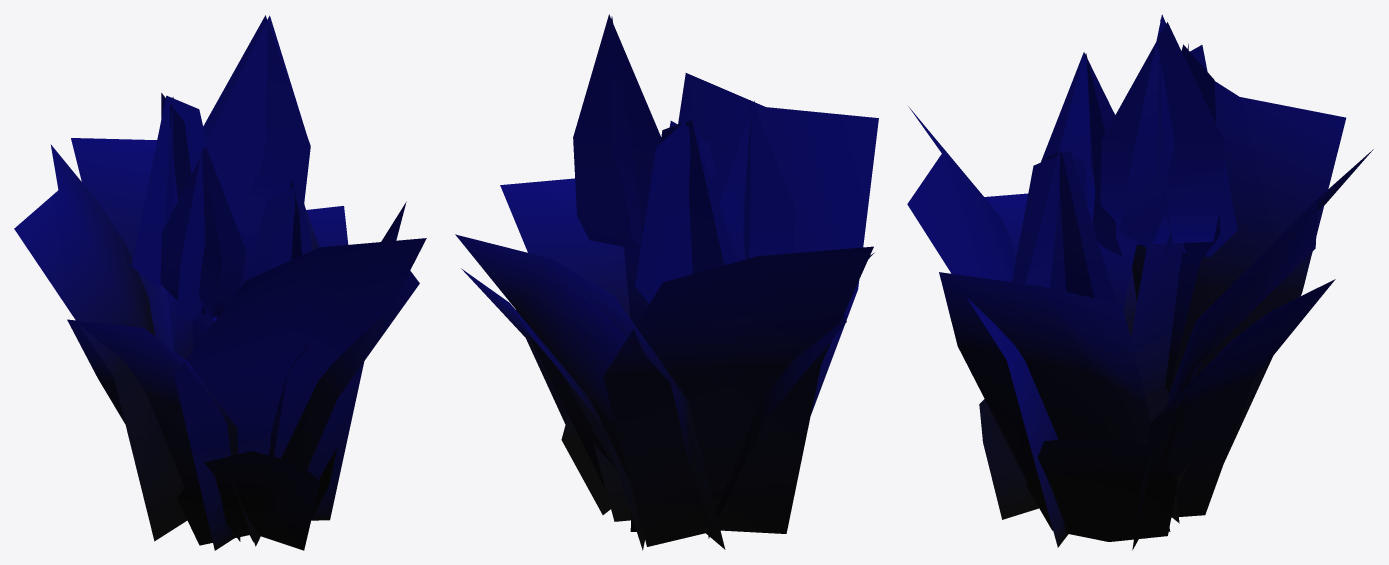
The model's file is SM_Foliage_ReedC_04.fbx.
The picture shows the model from 3 angles, left to right: view 1: azimuth 30°, elevation 25°; view 2: azimuth 150°, elevation 25°; view 3: azimuth 270°, elevation 25°; orthographic projection. The views are drawn at different scales.
Parts seen in each view (by area): view 1: SM_Foliage_ReedC_04; view 2: SM_Foliage_ReedC_04; view 3: SM_Foliage_ReedC_04.
Part boxes in pixels (box(x1,y1,x2,y2)): SM_Foliage_ReedC_04: box(14, 15, 426, 550); SM_Foliage_ReedC_04: box(455, 14, 878, 550); SM_Foliage_ReedC_04: box(907, 14, 1373, 550).
Bounding box in the file's own units: 92.27 × 90.93 × 113.
